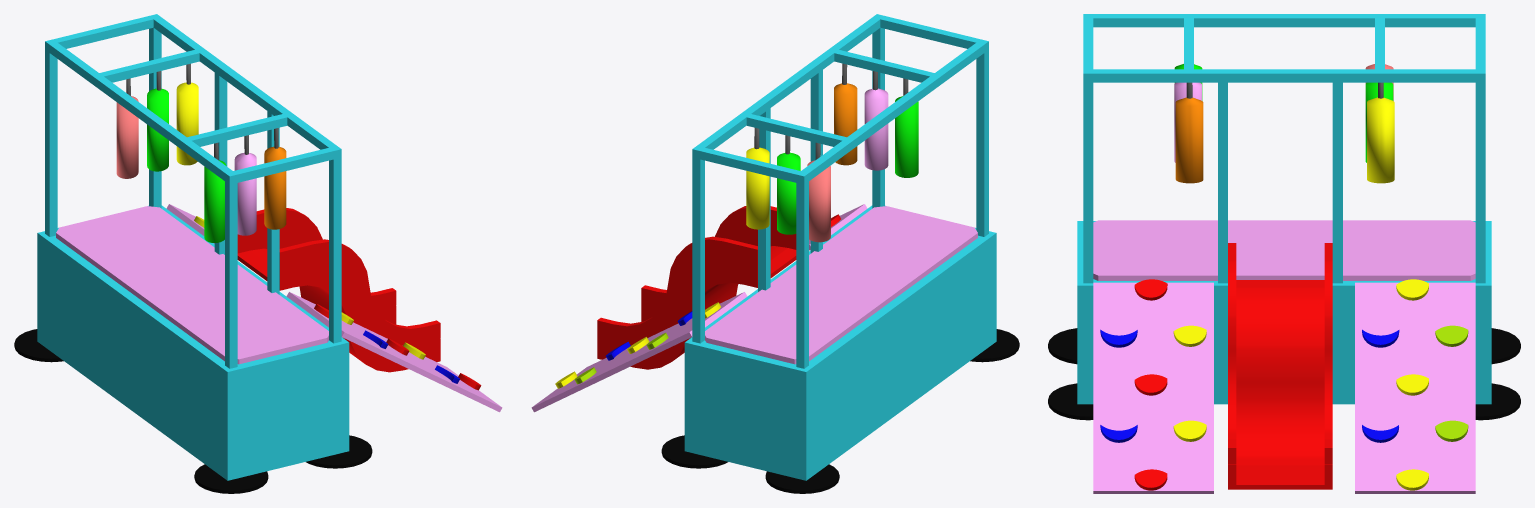
The model's file is playground-baby-20261127.glb.
3 views of the same model, side by side, from view 1: azimuth 30°, elevation 25°; view 2: azimuth 150°, elevation 25°; view 3: azimuth 270°, elevation 25° (orthographic). The views are drawn at different scales.
Visible parts, largest first — view 1: Group19, Group18, Group4, Group12, Group1, G_675_3, G_675_1, Group11, G_3250_3, G_3250_4, G_3250_1, Group20 (+15 smaller); view 2: Group19, Group18, Group3, Group12, Group1, G_675_3, Group17, G_675_1, G_3250_1, G_3250_2, G_3250_3, SACOS_DE_PANCADA_12_1 (+15 smaller); view 3: Group12, Group11, Group17, Group18, Group5, G_675_1, G_675_3, Group1, Group8, Group14, SACOS_DE_PANCADA_12_1, G_3250_2 (+14 smaller).
Boxes of the visible parts, <box> form: Group19: <box>37,232,232,480</box>; Group18: <box>56,206,328,364</box>; Group4: <box>230,340,349,479</box>; Group12: <box>237,208,440,372</box>; Group1: <box>204,128,286,242</box>; G_675_3: <box>49,43,232,180</box>; G_675_1: <box>153,17,336,149</box>; Group11: <box>286,292,502,412</box>; G_3250_3: <box>225,171,237,368</box>; G_3250_4: <box>329,146,341,343</box>; G_3250_1: <box>45,39,57,236</box>; Group20: <box>116,78,138,178</box>; Group19: <box>801,232,996,480</box>; Group18: <box>705,206,977,364</box>; Group3: <box>684,340,803,479</box>; Group12: <box>597,206,796,369</box>; Group1: <box>834,63,918,177</box>; G_675_3: <box>801,43,984,180</box>; Group17: <box>531,292,747,412</box>; G_675_1: <box>697,17,880,149</box>; G_3250_1: <box>796,171,808,368</box>; G_3250_2: <box>692,146,704,343</box>; G_3250_3: <box>976,39,988,236</box>; SACOS_DE_PANCADA_12_1: <box>746,128,769,229</box>; Group12: <box>1228,243,1332,489</box>; Group11: <box>1093,282,1213,493</box>; Group17: <box>1355,282,1475,493</box>; Group18: <box>1093,220,1475,280</box>; Group5: <box>1083,283,1485,404</box>; G_675_1: <box>1093,69,1475,82</box>; G_675_3: <box>1093,14,1475,27</box>; Group1: <box>1174,64,1203,183</box>; Group8: <box>1134,279,1206,490</box>; Group14: <box>1396,279,1468,490</box>; SACOS_DE_PANCADA_12_1: <box>1367,82,1394,183</box>; G_3250_2: <box>1475,69,1485,283</box>.
Size of the model in its own units: 1.93 by 1.83 by 2.35.
